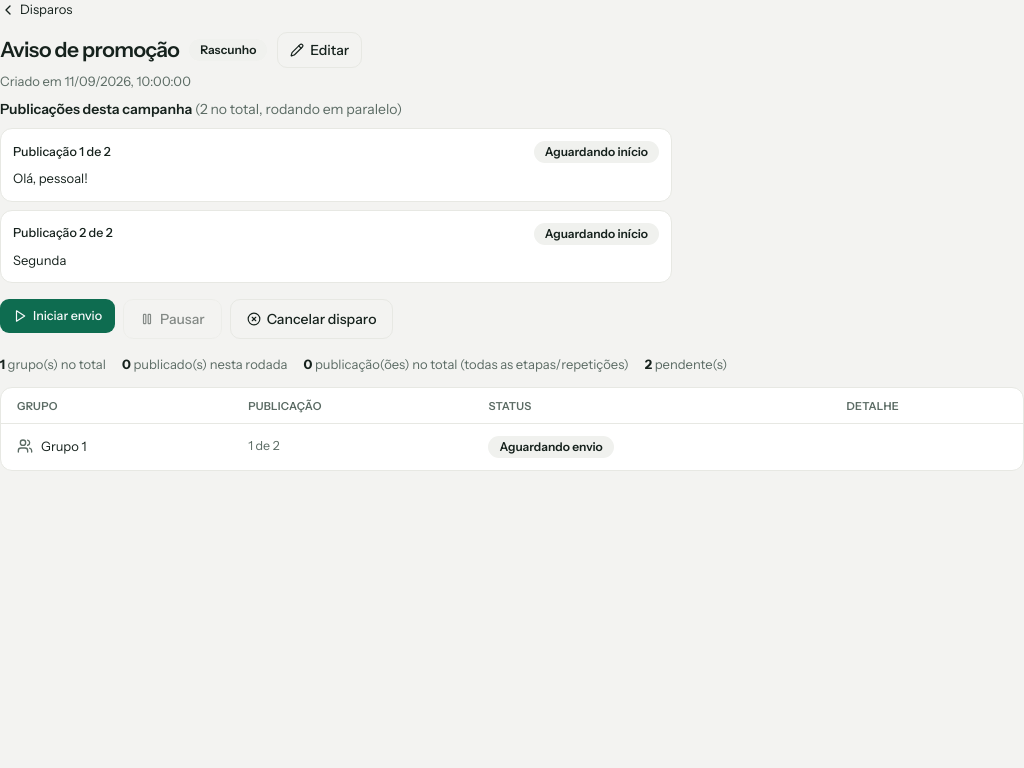
it: GroupBroadcastDetailPanel › com múltiplas etapas: o diálogo mostra GRUPOS DISTINTOS, nunca o pending somado das etapas (2026-09-14)
Check: the heading "Aviso de promoção" is shown, box [0, 34, 179, 66]
Step 1. Click the button "Iniciar envio" → coordinates (58, 316), box [0, 299, 115, 333]
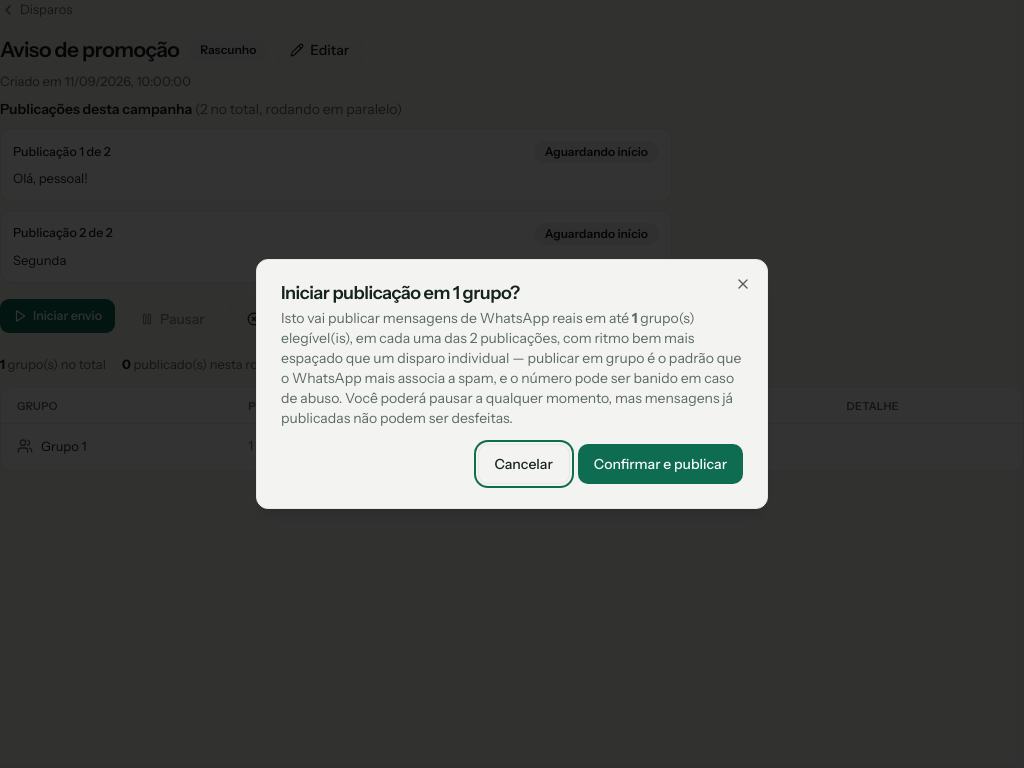
Check: the heading "Iniciar publicação em 1 grupo?" is shown, box [281, 282, 520, 304]
